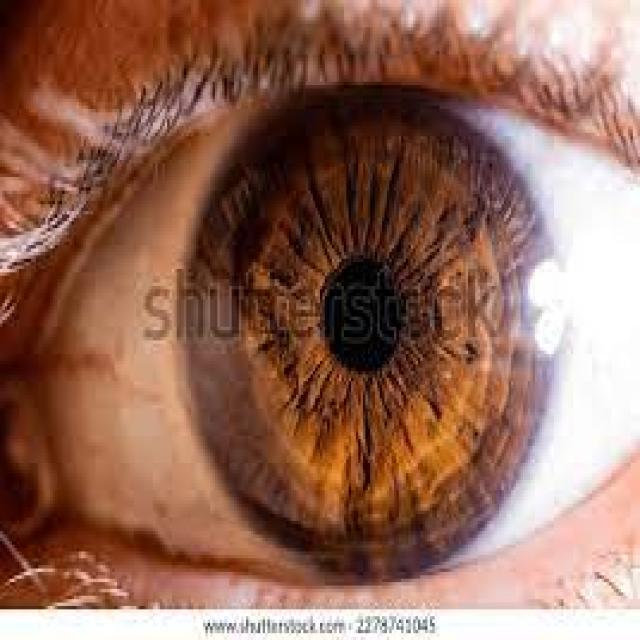Eyes-iris: (163, 68, 566, 589)
